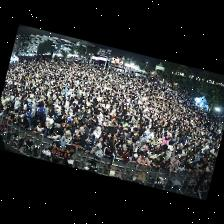person: (102, 146, 115, 170), (43, 114, 52, 135), (136, 153, 149, 167), (117, 146, 129, 161), (71, 134, 83, 149), (89, 144, 101, 158), (49, 128, 62, 140), (63, 122, 73, 137), (150, 156, 161, 169), (75, 127, 85, 141), (53, 109, 60, 128), (81, 115, 91, 128), (93, 126, 100, 144), (113, 138, 122, 152), (32, 123, 43, 134), (18, 116, 28, 128), (94, 137, 104, 149), (60, 131, 70, 143), (84, 139, 93, 152), (176, 160, 185, 173), (84, 133, 93, 146), (24, 107, 30, 126), (35, 101, 42, 117), (60, 112, 69, 124), (193, 163, 202, 175), (103, 133, 112, 145), (184, 162, 194, 172), (147, 150, 156, 161), (164, 147, 171, 161), (146, 127, 153, 141), (132, 141, 139, 154), (169, 155, 179, 164), (160, 135, 169, 145), (123, 126, 130, 138), (138, 134, 145, 146), (150, 137, 159, 146), (82, 123, 88, 136), (122, 140, 130, 149), (138, 147, 148, 154), (109, 123, 116, 133), (129, 154, 137, 162), (8, 111, 14, 121), (97, 113, 102, 125), (60, 158, 68, 165), (2, 110, 8, 119), (30, 105, 34, 118), (157, 152, 165, 158)
